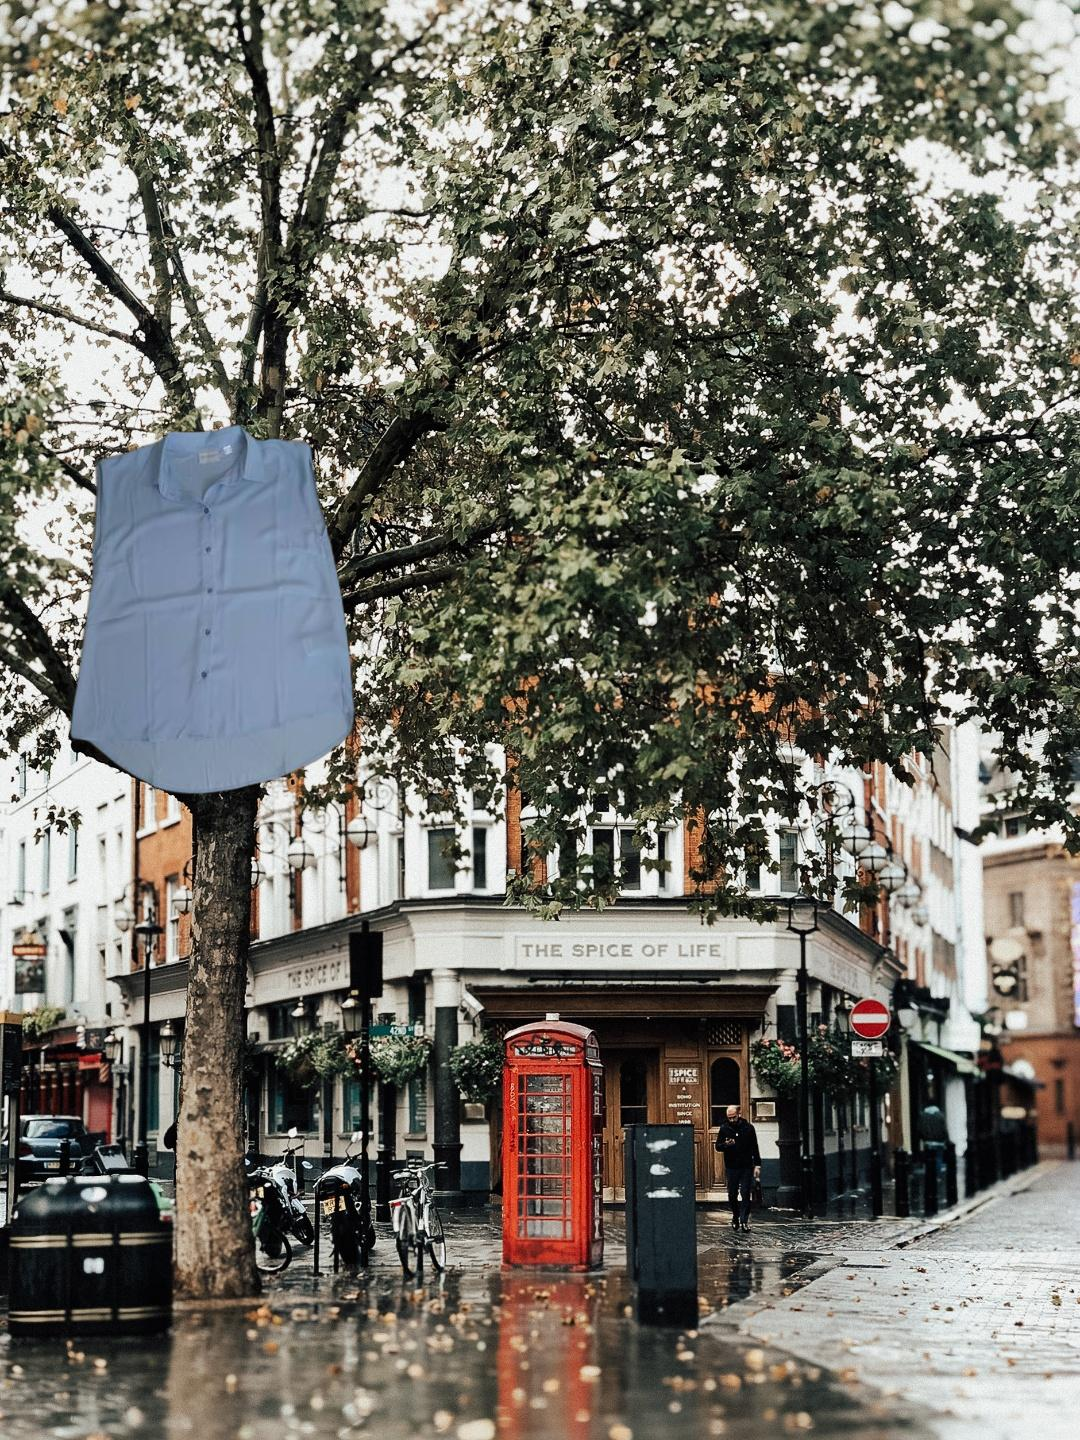clothes: (64, 418, 358, 798)
